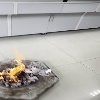fire: (0, 46, 25, 83)
